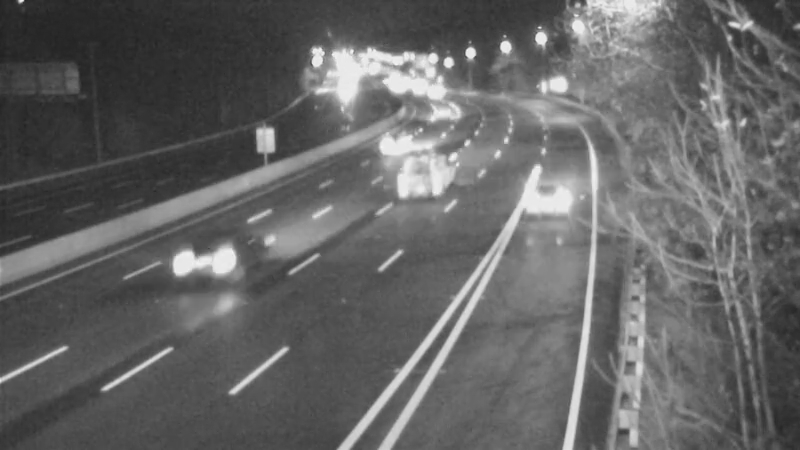vehicle: (372, 149, 452, 229), (505, 161, 585, 241), (156, 216, 236, 296), (408, 65, 458, 115), (410, 90, 460, 140), (369, 117, 419, 167)
